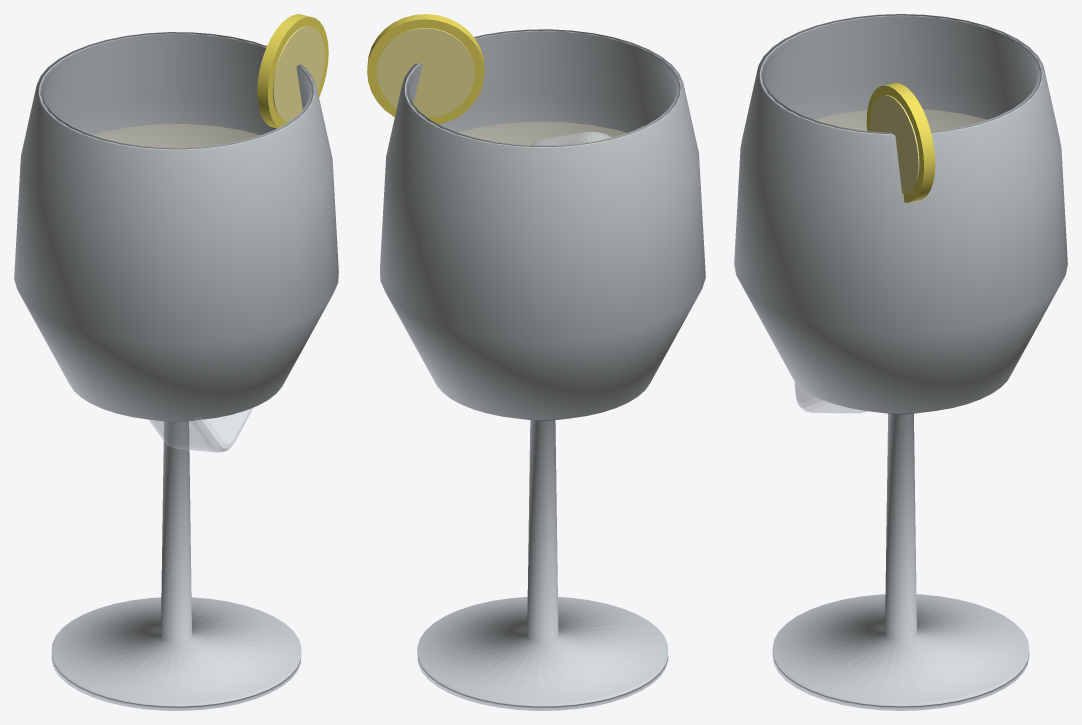
Rendered from cocktail-44-n-gin.glb.
The picture shows the model from 3 angles, left to right: view 1: azimuth 30°, elevation 25°; view 2: azimuth 150°, elevation 25°; view 3: azimuth 270°, elevation 25°; orthographic projection. The views are drawn at different scales.
Size of the model in its own units: 0.1124 by 0.2154 by 0.104.
